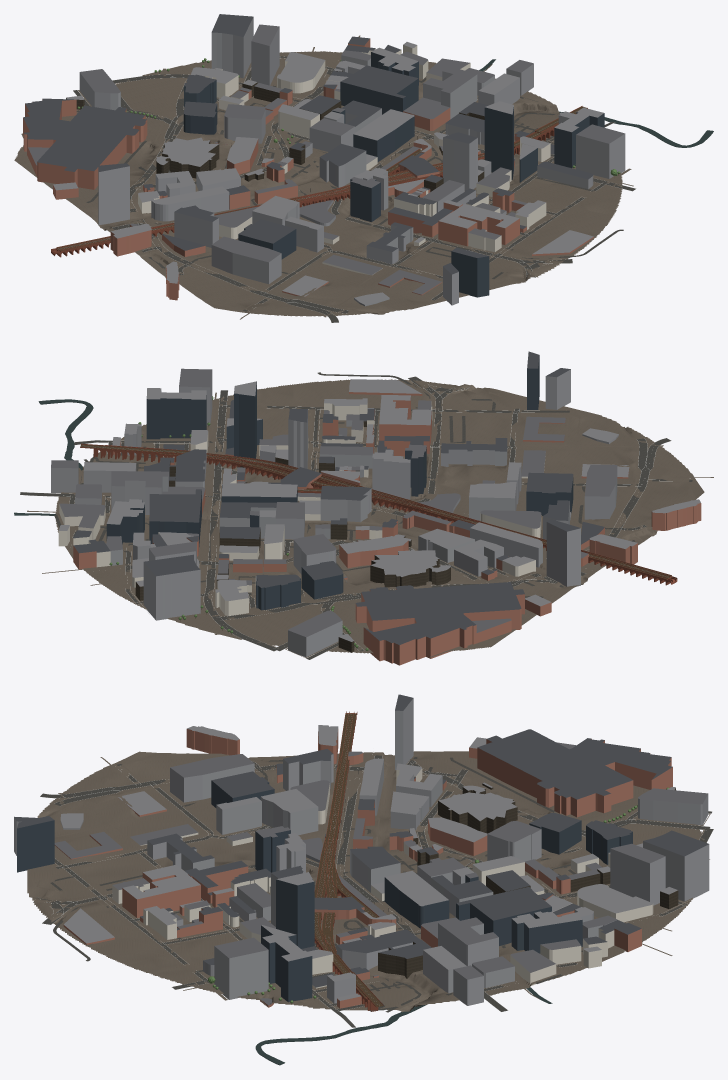
The model's file is t_barclay_surroundings_mobile.glb.
3 views of the same model, one above another, from view 1: azimuth 30°, elevation 25°; view 2: azimuth 150°, elevation 25°; view 3: azimuth 270°, elevation 25° (orthographic). The views are drawn at different scales.
Visible parts, largest first — view 1: Terrain_EA_DTM, bldg_30089216, bldg_23112318, bldg_30927973, road_3697914, bldg_31177215, viaduct_31178960_arch, bldg_31176345, viaduct_31178960_deck, kerb_3697914, canal_28047773; view 2: Terrain_EA_DTM, bldg_30089216, bldg_23112318, bldg_30927973, road_3697914, bldg_31177215, viaduct_31178960_arch, bldg_31176345, viaduct_31178960_deck, kerb_3697914, canal_28047773; view 3: Terrain_EA_DTM, bldg_30089216, bldg_23112318, bldg_30927973, road_3697914, bldg_31177215, viaduct_31178960_deck, bldg_31176345, viaduct_31178960_arch, kerb_3697914, canal_28047773.
Boxes of the visible parts, x1,y1,x2,y2 form: Terrain_EA_DTM: (14,35,633,319); bldg_30089216: (28,17,625,306); bldg_23112318: (23,14,593,300); bldg_30927973: (53,42,604,304); road_3697914: (73,56,635,322); bldg_31177215: (138,45,554,275); viaduct_31178960_arch: (51,106,587,257); bldg_31176345: (66,70,484,197); viaduct_31178960_deck: (56,106,586,251); kerb_3697914: (73,56,630,322); canal_28047773: (479,59,713,147); Terrain_EA_DTM: (27,379,713,657); bldg_30089216: (51,368,618,657); bldg_23112318: (73,351,701,665); bldg_30927973: (59,355,700,641); road_3697914: (20,372,692,659); bldg_31177215: (58,401,545,615); viaduct_31178960_arch: (80,443,677,585); bldg_31176345: (135,421,450,652); viaduct_31178960_deck: (80,444,671,579); kerb_3697914: (22,379,690,659); canal_28047773: (14,399,581,585); Terrain_EA_DTM: (27,751,710,1012); bldg_30089216: (14,698,709,1005); bldg_23112318: (14,694,708,1008); bldg_30927973: (17,725,677,1002); road_3697914: (33,755,713,1027); bldg_31177215: (112,768,653,988); viaduct_31178960_deck: (314,713,382,1007); bldg_31176345: (325,783,678,978); viaduct_31178960_arch: (314,711,383,1011); kerb_3697914: (33,756,713,1027); canal_28047773: (255,987,552,1065).
Size of the model in its own units: 945 by 97.78 by 814.
Materials: 20 (4 with a texture image).
